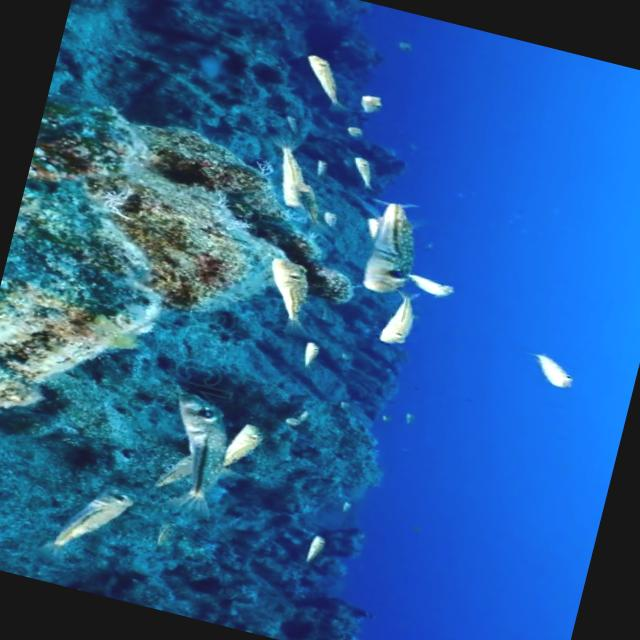Balon Baligi: (146, 386, 238, 522), (342, 190, 440, 302), (46, 473, 142, 566), (292, 46, 362, 116), (256, 251, 323, 324), (371, 293, 428, 358), (522, 354, 591, 396), (290, 526, 340, 572), (353, 90, 395, 120), (290, 336, 327, 368)
